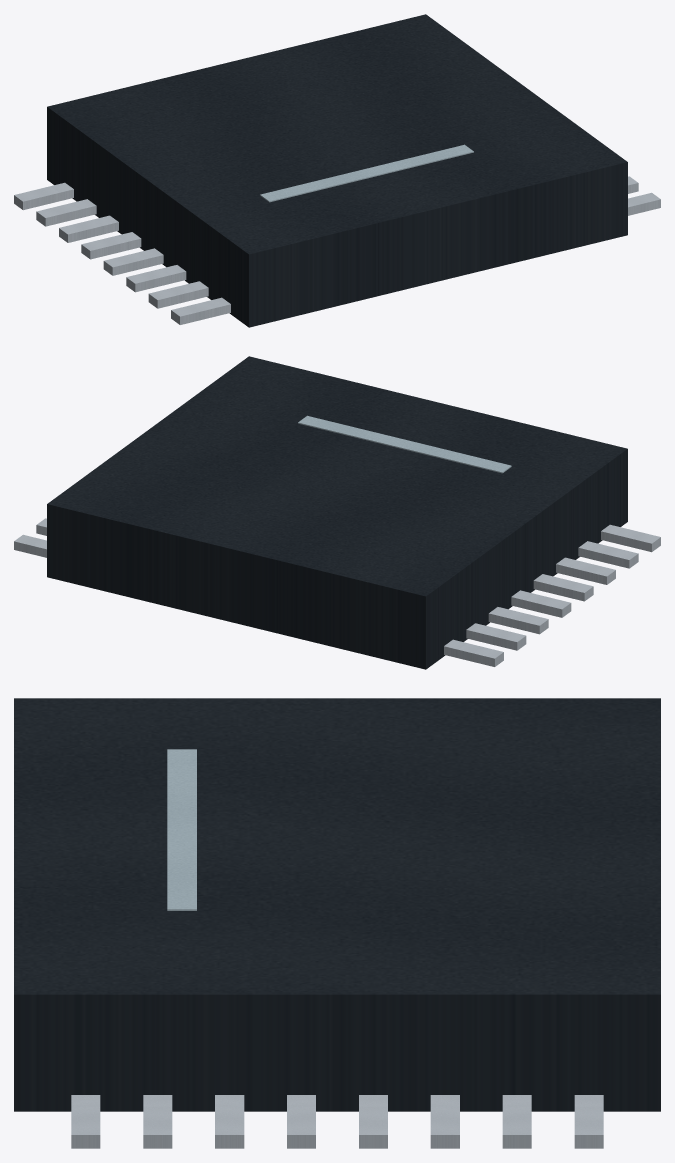
3 views of the same model, one above another, from view 1: azimuth 30°, elevation 25°; view 2: azimuth 150°, elevation 25°; view 3: azimuth 270°, elevation 25° (orthographic). The views are drawn at different scales.
Visible parts, largest first — view 1: Part000__PSMAT__IC_Epoxy, Part001__PSMAT__IC_Laser, Part003__PSMAT__Tin_Solder, Part005__PSMAT__Tin_Solder, Part008__PSMAT__Tin_Solder, Part006__PSMAT__Tin_Solder, Part007__PSMAT__Tin_Solder, Part002__PSMAT__Tin_Solder, Part004__PSMAT__Tin_Solder, Part009__PSMAT__Tin_Solder, Part017__PSMAT__Tin_Solder; view 2: Part000__PSMAT__IC_Epoxy, Part001__PSMAT__IC_Laser, Part008__PSMAT__Tin_Solder, Part003__PSMAT__Tin_Solder, Part006__PSMAT__Tin_Solder, Part005__PSMAT__Tin_Solder, Part004__PSMAT__Tin_Solder, Part007__PSMAT__Tin_Solder, Part009__PSMAT__Tin_Solder, Part002__PSMAT__Tin_Solder, Part010__PSMAT__Tin_Solder; view 3: Part000__PSMAT__IC_Epoxy, Part001__PSMAT__IC_Laser, Part010__PSMAT__Tin_Solder, Part011__PSMAT__Tin_Solder, Part012__PSMAT__Tin_Solder, Part015__PSMAT__Tin_Solder, Part016__PSMAT__Tin_Solder, Part017__PSMAT__Tin_Solder, Part013__PSMAT__Tin_Solder, Part014__PSMAT__Tin_Solder.
Part boxes in pixels (<box>): Part000__PSMAT__IC_Epoxy: <box>47,14,627,327</box>; Part001__PSMAT__IC_Laser: <box>260,144,473,202</box>; Part003__PSMAT__Tin_Solder: <box>36,199,96,226</box>; Part005__PSMAT__Tin_Solder: <box>81,232,141,259</box>; Part008__PSMAT__Tin_Solder: <box>148,281,208,308</box>; Part006__PSMAT__Tin_Solder: <box>103,248,163,275</box>; Part007__PSMAT__Tin_Solder: <box>126,265,186,292</box>; Part002__PSMAT__Tin_Solder: <box>14,182,73,210</box>; Part004__PSMAT__Tin_Solder: <box>59,215,118,242</box>; Part009__PSMAT__Tin_Solder: <box>171,297,230,324</box>; Part017__PSMAT__Tin_Solder: <box>628,192,660,215</box>; Part000__PSMAT__IC_Epoxy: <box>47,356,627,669</box>; Part001__PSMAT__IC_Laser: <box>298,415,511,473</box>; Part008__PSMAT__Tin_Solder: <box>578,541,638,568</box>; Part003__PSMAT__Tin_Solder: <box>466,623,526,650</box>; Part006__PSMAT__Tin_Solder: <box>533,574,593,601</box>; Part005__PSMAT__Tin_Solder: <box>511,590,571,617</box>; Part004__PSMAT__Tin_Solder: <box>488,607,548,634</box>; Part007__PSMAT__Tin_Solder: <box>556,557,615,584</box>; Part009__PSMAT__Tin_Solder: <box>601,524,660,552</box>; Part002__PSMAT__Tin_Solder: <box>444,639,503,666</box>; Part010__PSMAT__Tin_Solder: <box>14,534,46,557</box>; Part000__PSMAT__IC_Epoxy: <box>14,698,660,1111</box>; Part001__PSMAT__IC_Laser: <box>167,749,196,910</box>; Part010__PSMAT__Tin_Solder: <box>574,1095,603,1148</box>; Part011__PSMAT__Tin_Solder: <box>502,1095,531,1148</box>; Part012__PSMAT__Tin_Solder: <box>430,1095,459,1148</box>; Part015__PSMAT__Tin_Solder: <box>215,1095,244,1148</box>; Part016__PSMAT__Tin_Solder: <box>143,1095,172,1148</box>; Part017__PSMAT__Tin_Solder: <box>71,1095,100,1148</box>; Part013__PSMAT__Tin_Solder: <box>359,1095,387,1148</box>; Part014__PSMAT__Tin_Solder: <box>287,1095,315,1148</box>.
Size of the model in its own units: 0.0165 by 0.00245 by 0.012.
3 materials, 3 textured.
